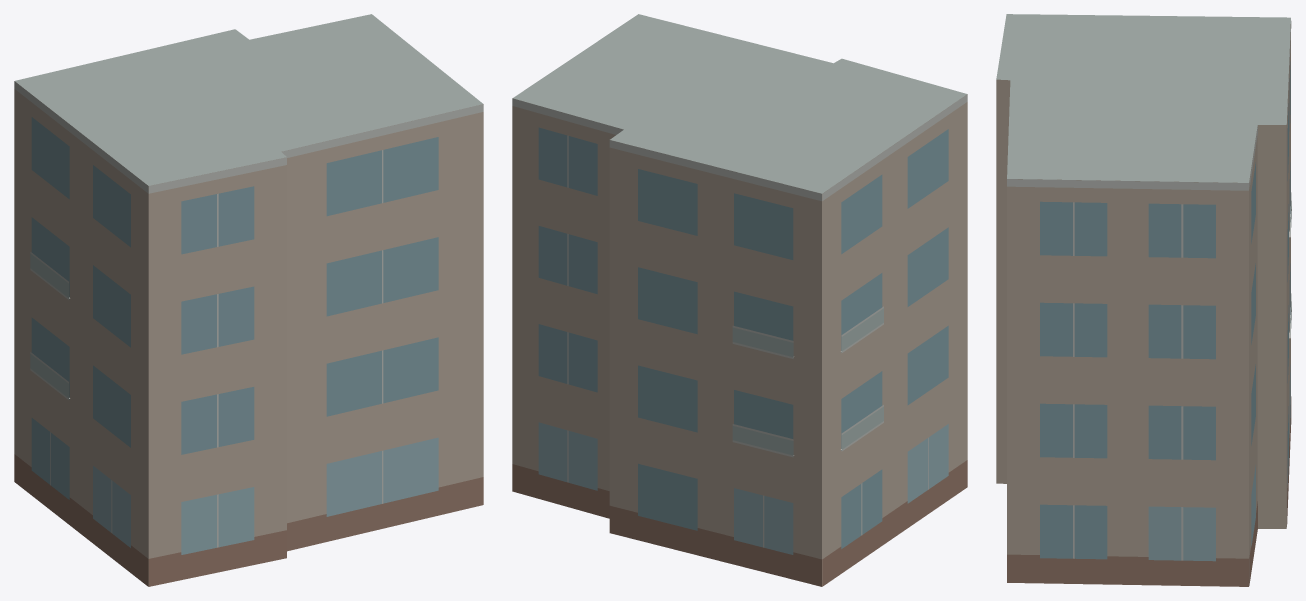
File: survey-upis-32490787.glb
The picture shows the model from 3 angles, left to right: view 1: azimuth 30°, elevation 25°; view 2: azimuth 150°, elevation 25°; view 3: azimuth 270°, elevation 25°; orthographic projection. The views are drawn at different scales.
Parts seen in each view (by area): view 1: survey-upis-32490787.tmp; view 2: survey-upis-32490787.tmp; view 3: survey-upis-32490787.tmp.
Boxes of the visible parts, left/top/right/bottom form: survey-upis-32490787.tmp: left=14, top=14, right=483, bottom=586; survey-upis-32490787.tmp: left=512, top=14, right=967, bottom=586; survey-upis-32490787.tmp: left=996, top=14, right=1291, bottom=586.
Bounding box in the file's own units: 11.3 × 12.58 × 8.35.
